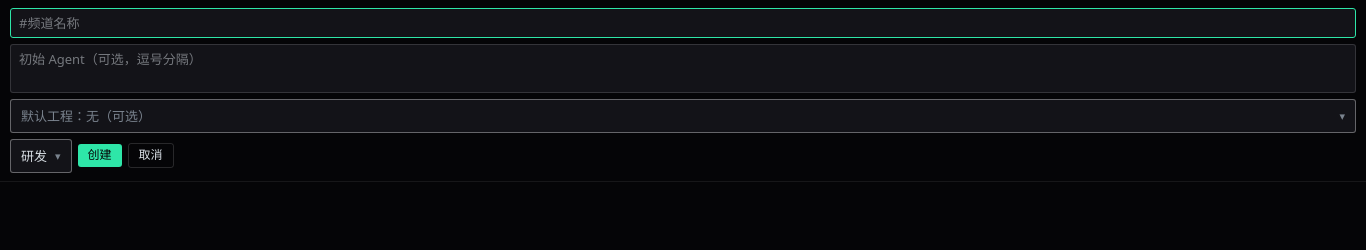
Test: CreateChannelForm（#272 创建频道表单） › 渲染名称/初始 Agent/类型/可选默认工程（本地工程发现数据源）
The width and height of the screenshot is (1366, 250).
expect the field labelled "频道名称" is shown: met, box [10,8,1356,38]
expect the text box labelled "初始 Agent" is shown: met, box [10,44,1356,93]
Click the button labelled "默认工程：无（可选） ▾" at [86, 116], box [10,99,1356,133]
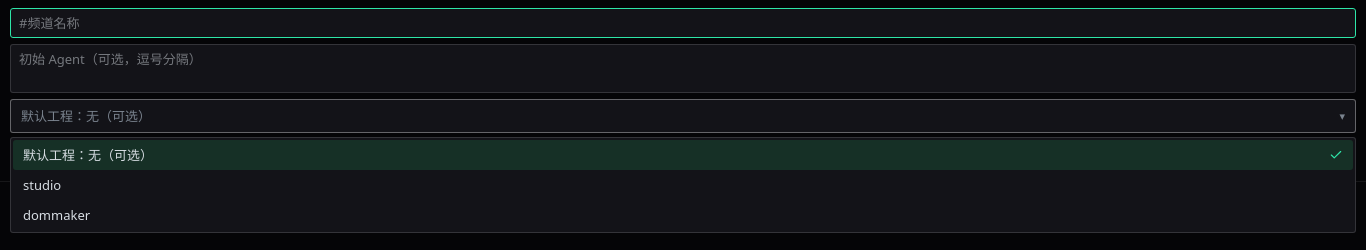
expect the option "studio" is shown: met, box [23,176,61,194]
expect the option "dommaker" is shown: met, box [23,206,90,224]
